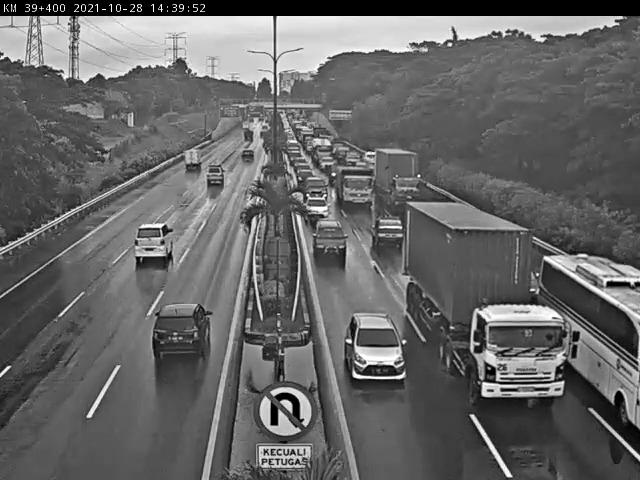big bus: (536, 249, 640, 426)
big truck: (406, 202, 569, 400), (374, 149, 416, 201), (334, 164, 371, 204)
car: (344, 312, 405, 382), (151, 304, 212, 358), (134, 222, 177, 260), (502, 254, 535, 297), (311, 216, 344, 251), (368, 213, 403, 245), (302, 174, 327, 197), (304, 194, 329, 214), (205, 166, 223, 186), (295, 169, 314, 184)
small truck: (182, 148, 203, 172)
